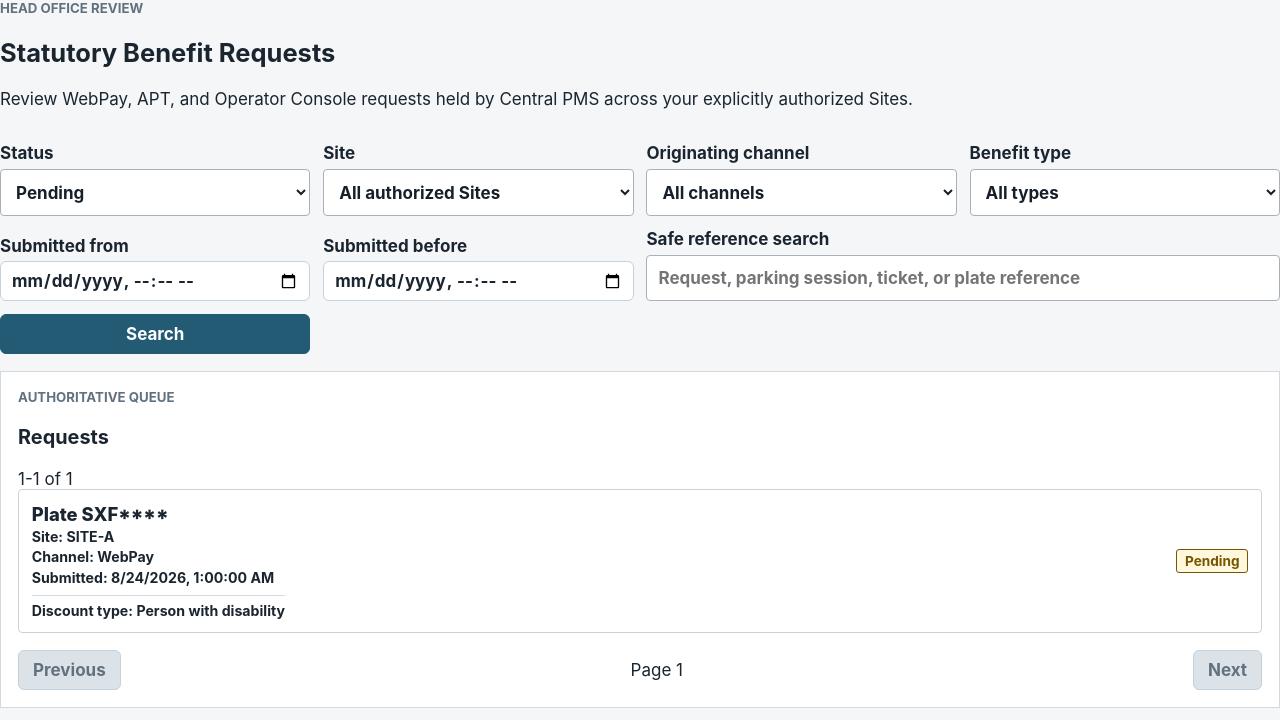
Scenario: Statutory Benefit Requests › uses the authorized plate as the primary identity for an ANPR-only parking session
The width and height of the screenshot is (1280, 720).
Expected: the text "Plate SXF****" is shown, [32,503,168,525]
Click the button named "Person with disability" at (640, 561), box [18,489,1262,633]
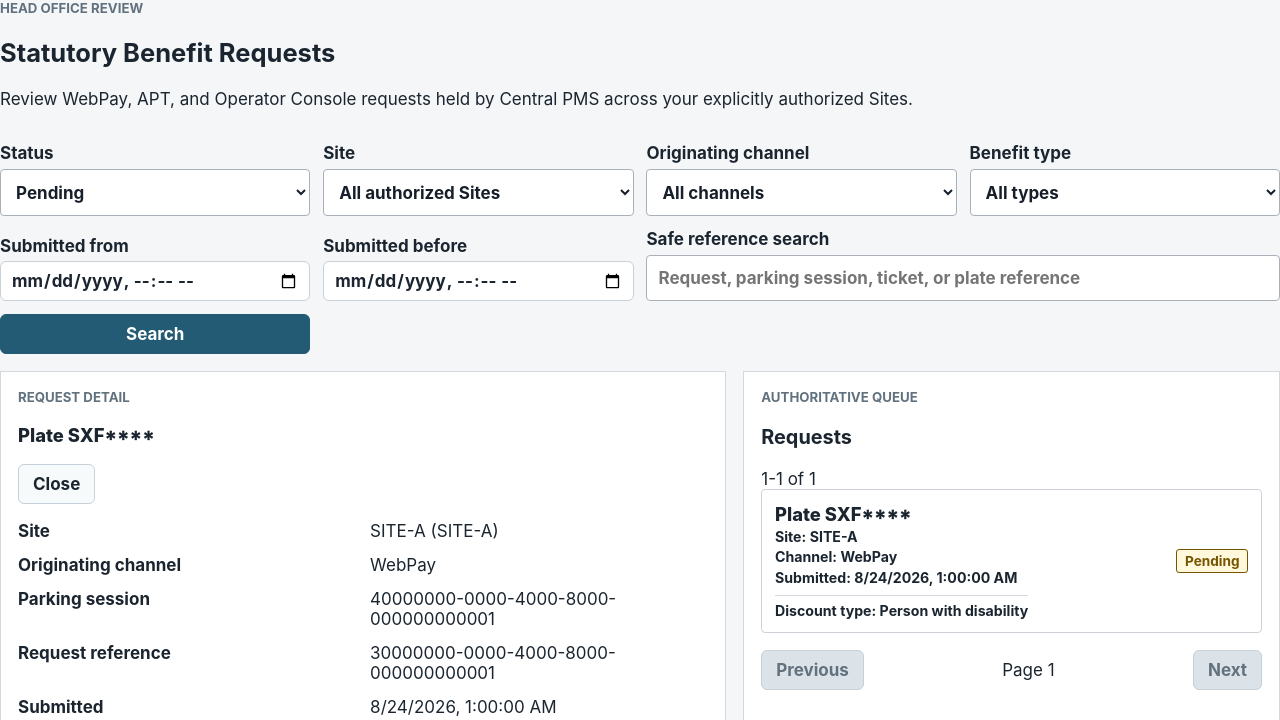
Now the heading "Plate SXF****" is shown, box [18,424,155,446]
